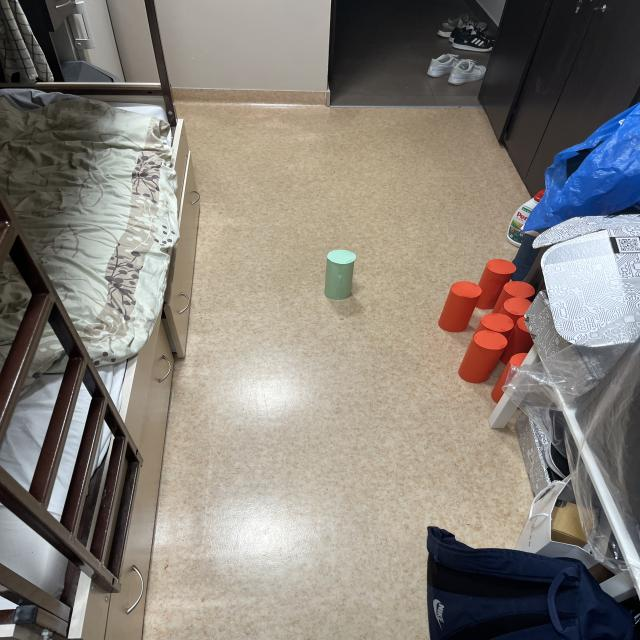meta: (325, 250, 356, 300)
